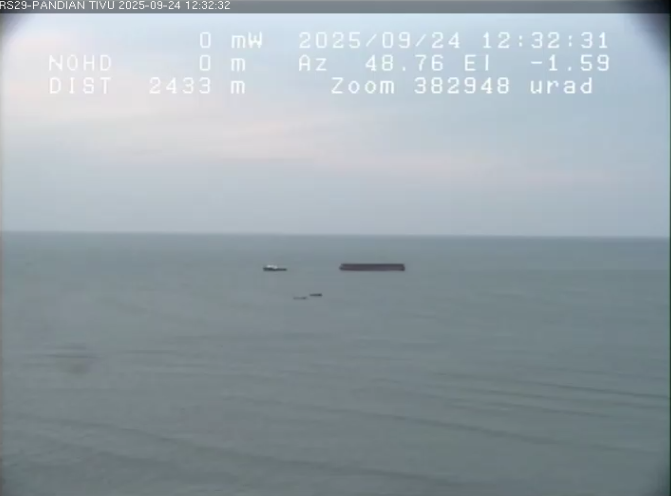BARGE: (328, 255, 426, 276)
FISHING_BOAT: (305, 288, 333, 301), (282, 294, 305, 303)
OFFSHORE_SUPPLY_VESSEL: (257, 256, 303, 278)
TOWING: (234, 232, 462, 283)
